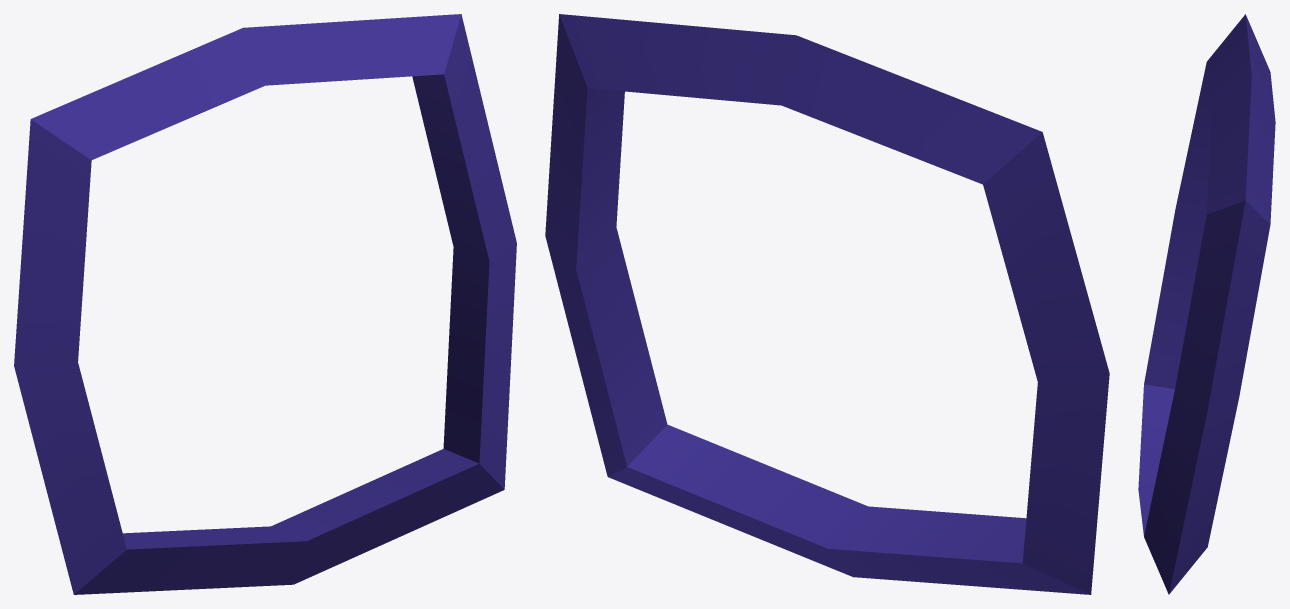
File: Halo 01.FBX
3 renders of one model, left to right at view 1: azimuth 30°, elevation 25°; view 2: azimuth 150°, elevation 25°; view 3: azimuth 270°, elevation 25°, orthographic. The views are drawn at different scales.
Parts seen in each view (by area): view 1: Halo 01; view 2: Halo 01; view 3: Halo 01.
Part boxes in pixels (<box>): Halo 01: <box>14,14,516,594</box>; Halo 01: <box>545,14,1109,594</box>; Halo 01: <box>1138,14,1275,594</box>.
Size of the model in its own units: 72.44 by 71.55 by 19.28.
Materials: 1 (1 with a texture image).
